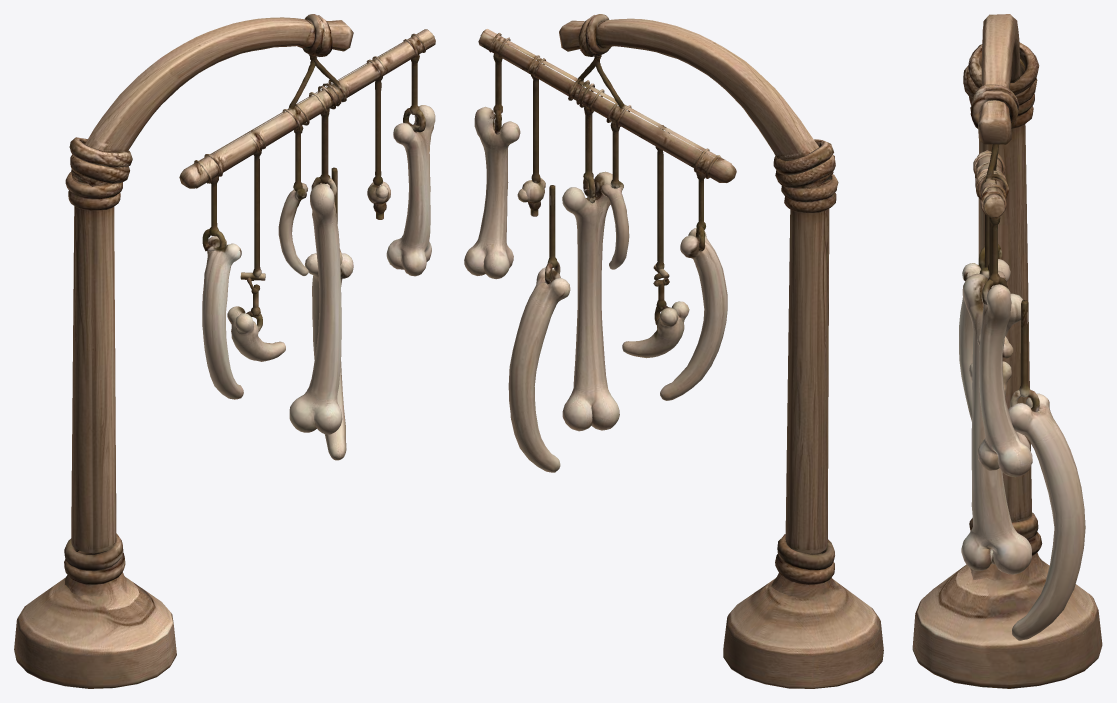
File: act1-a14-4-bone-mobile.glb
The picture shows the model from 3 angles, left to right: view 1: azimuth 30°, elevation 25°; view 2: azimuth 150°, elevation 25°; view 3: azimuth 270°, elevation 25°; orthographic projection. The views are drawn at different scales.
Visible parts, largest first — view 1: act1-a14-4-bone-mobile; view 2: act1-a14-4-bone-mobile; view 3: act1-a14-4-bone-mobile.
Boxes of the visible parts, x1,y1,x2,y2 form: act1-a14-4-bone-mobile: (14,14,435,688); act1-a14-4-bone-mobile: (464,14,883,688); act1-a14-4-bone-mobile: (912,14,1102,688).
Size of the model in its own units: 2.31 by 3.24 by 0.8021.
Materials: 1 (1 with a texture image).
